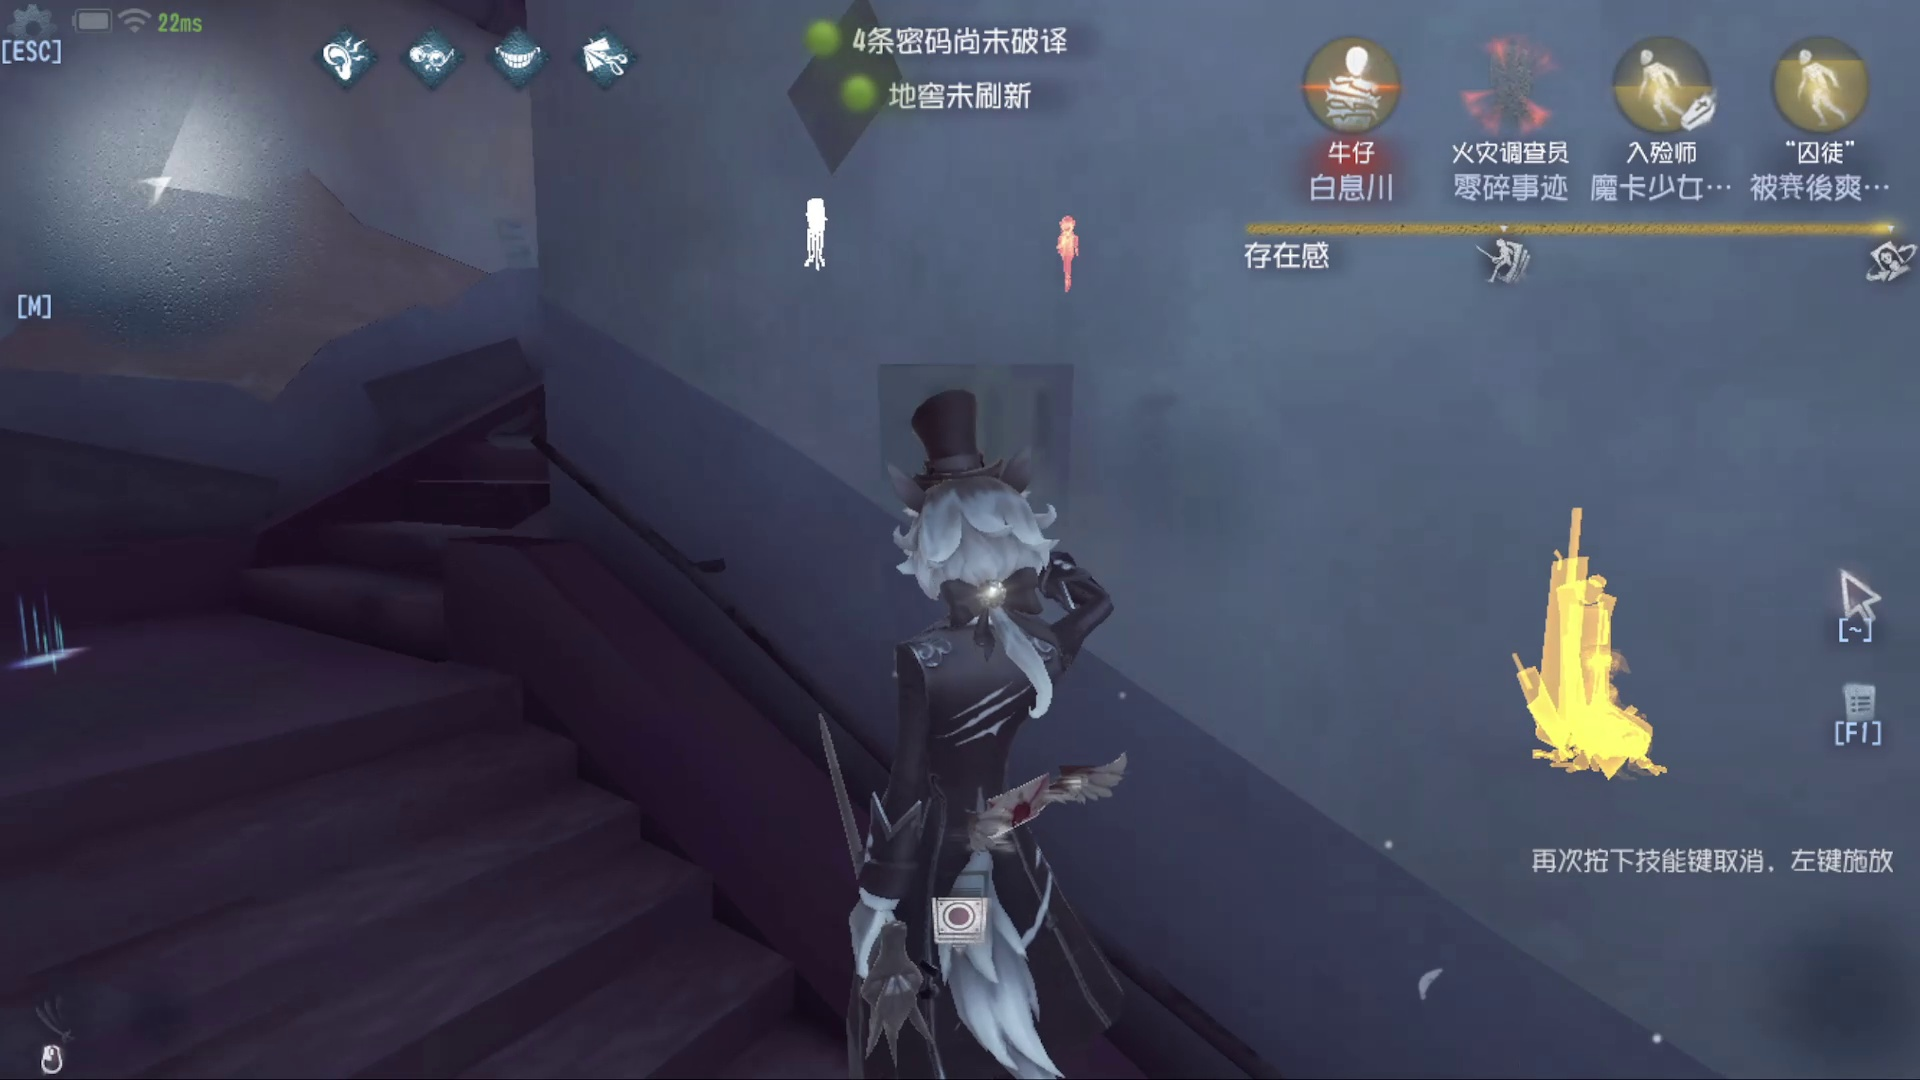狂欢之椅: (1481, 471, 1729, 808)
